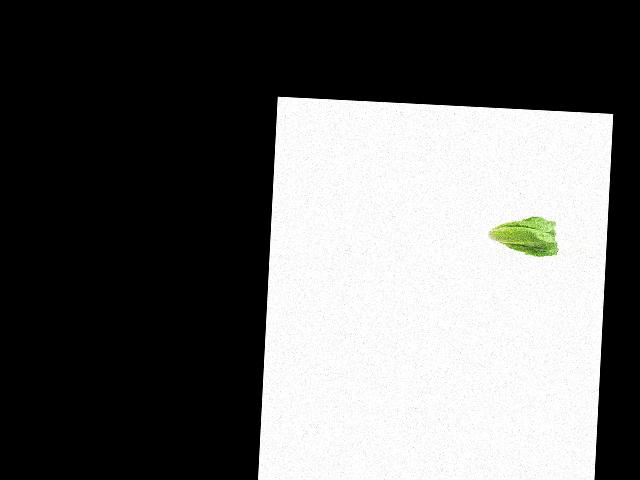lettuce: (485, 211, 560, 261)
